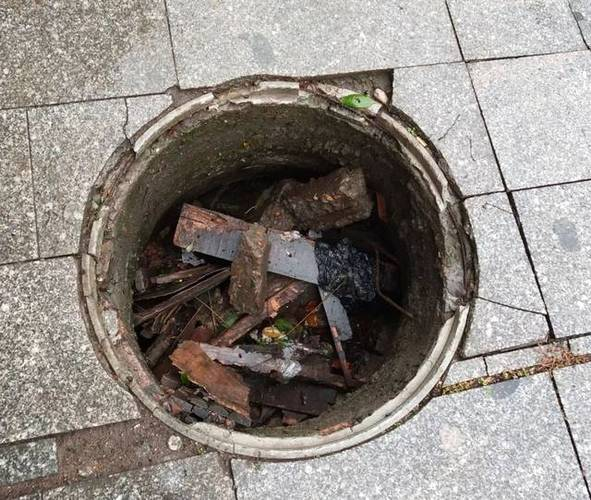lose: (73, 82, 483, 461)
